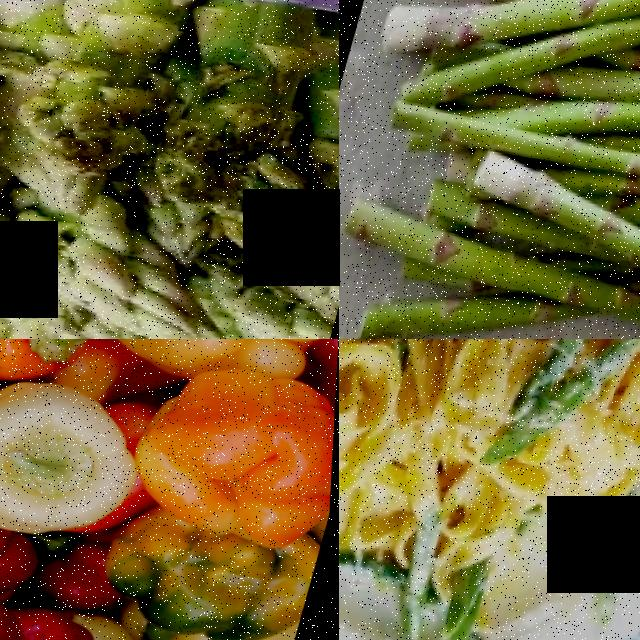asparagus: (439, 6, 640, 225), (20, 0, 201, 235), (481, 185, 640, 339), (434, 0, 640, 114)
bell pepper: (124, 344, 339, 591), (0, 352, 151, 572), (96, 339, 327, 410), (0, 567, 163, 640)
